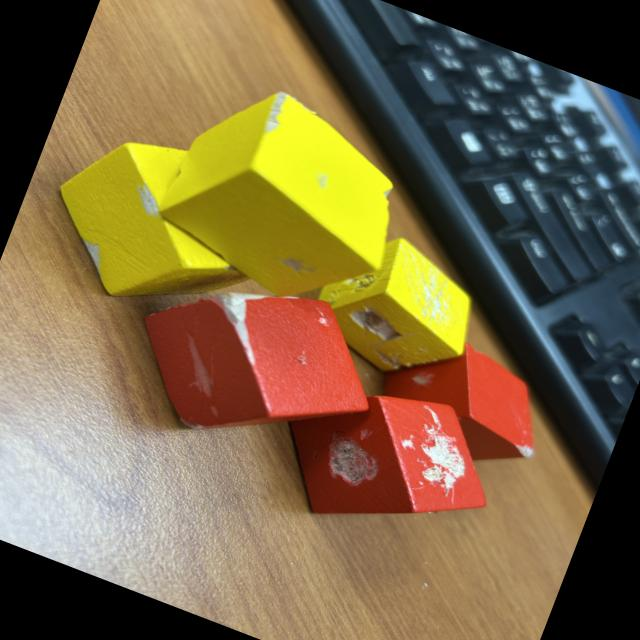broken: (146, 65, 428, 327), (113, 243, 399, 486), (27, 111, 286, 342), (258, 352, 514, 572), (302, 217, 496, 397), (367, 318, 562, 482)
